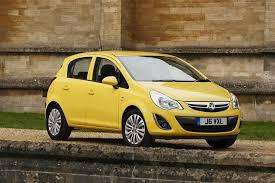car: (42, 47, 236, 153)
